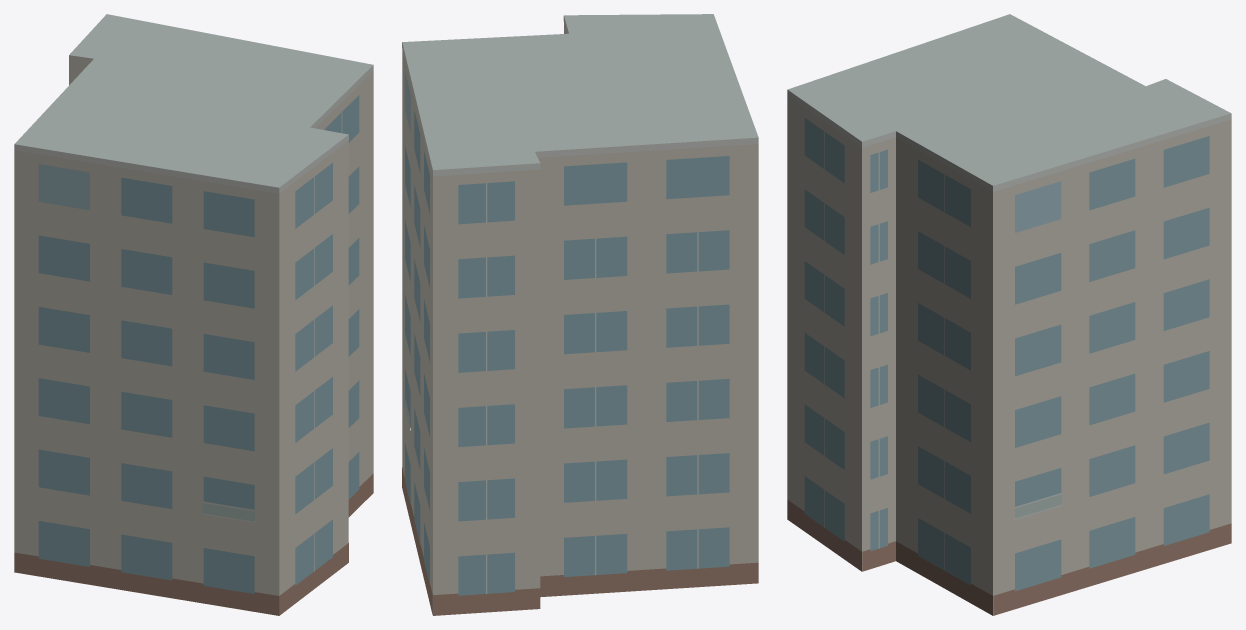
File: survey-upis-32859911.glb
The picture shows the model from 3 angles, left to right: view 1: azimuth 30°, elevation 25°; view 2: azimuth 150°, elevation 25°; view 3: azimuth 270°, elevation 25°; orthographic projection. The views are drawn at different scales.
Visible parts, largest first — view 1: survey-upis-32859911.tmp; view 2: survey-upis-32859911.tmp; view 3: survey-upis-32859911.tmp.
Part boxes in pixels (box(x1,y1,x2,y2)): survey-upis-32859911.tmp: box(14, 14, 373, 615); survey-upis-32859911.tmp: box(402, 14, 758, 615); survey-upis-32859911.tmp: box(787, 14, 1231, 615).
Bounding box in the file's own units: 14.92 × 17.39 × 16.29.
